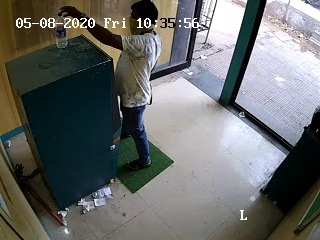open: (161, 1, 269, 126)
